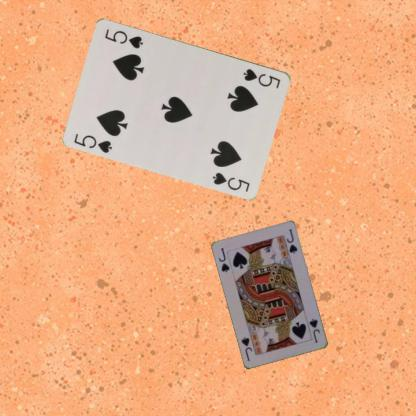5s: (240, 66, 282, 89), (72, 131, 113, 154)
Js: (216, 245, 231, 274), (307, 316, 321, 344)
